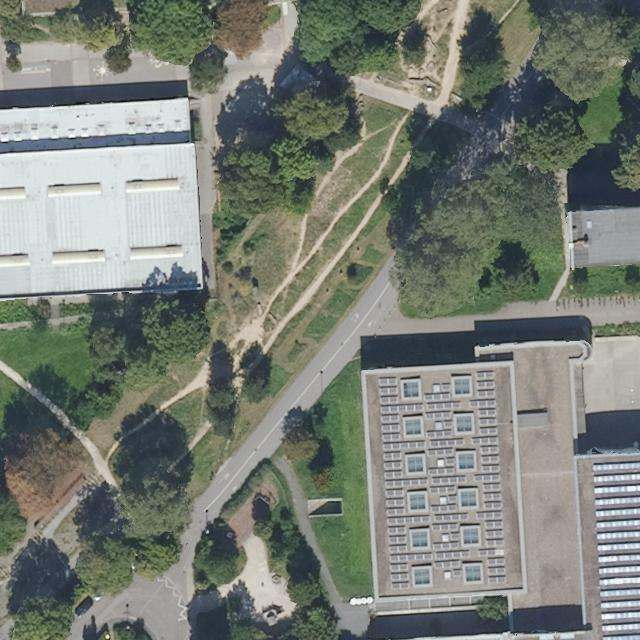PV: (591, 460, 639, 639), (385, 519, 509, 564), (376, 370, 499, 415), (378, 409, 502, 452), (382, 483, 505, 526), (381, 447, 503, 490), (386, 562, 412, 592), (486, 557, 509, 586), (433, 559, 464, 578)
